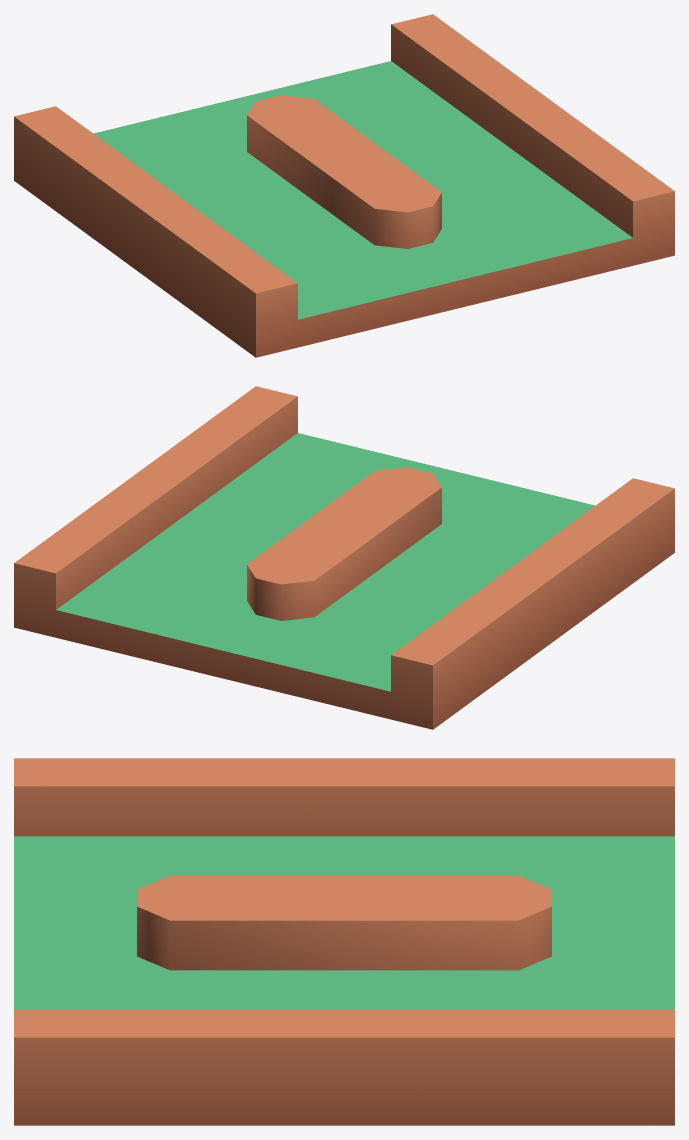
File: obstacle-block.glb
The picture shows the model from 3 angles, top to bottom: view 1: azimuth 30°, elevation 25°; view 2: azimuth 150°, elevation 25°; view 3: azimuth 270°, elevation 25°; orthographic projection. The views are drawn at different scales.
Parts seen in each view (by area): view 1: obstacle-block; view 2: obstacle-block; view 3: obstacle-block.
Boxes of the visible parts, bbox=[...] form: obstacle-block: bbox=[14, 14, 674, 357]; obstacle-block: bbox=[14, 386, 674, 729]; obstacle-block: bbox=[14, 758, 674, 1125].
Bounding box in the file's own units: 0.9999 × 0.1467 × 0.9999.
Materials: 1 (1 with a texture image).
